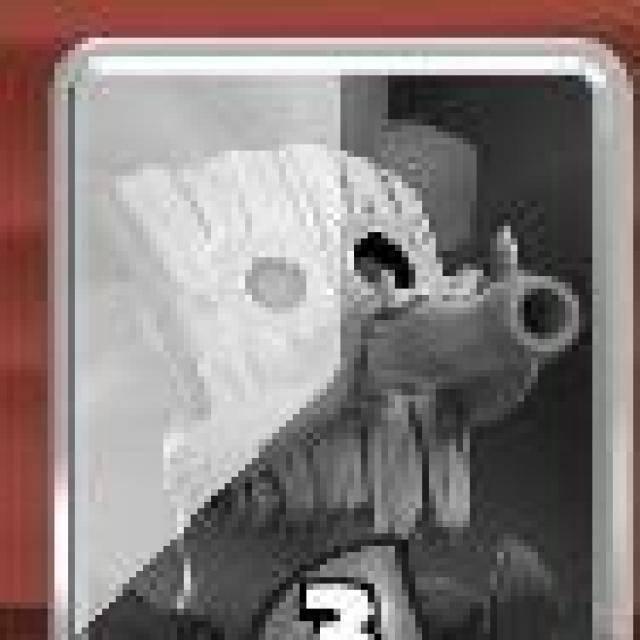Dark_Prince: (49, 33, 638, 640)
